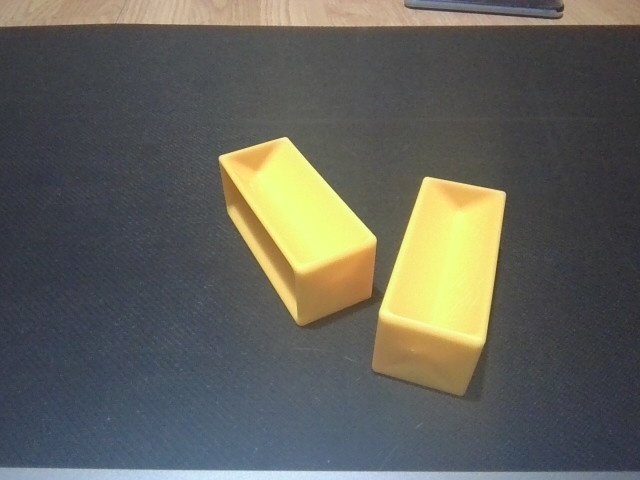YellowSample: (214, 132, 381, 331), (365, 171, 509, 401)
